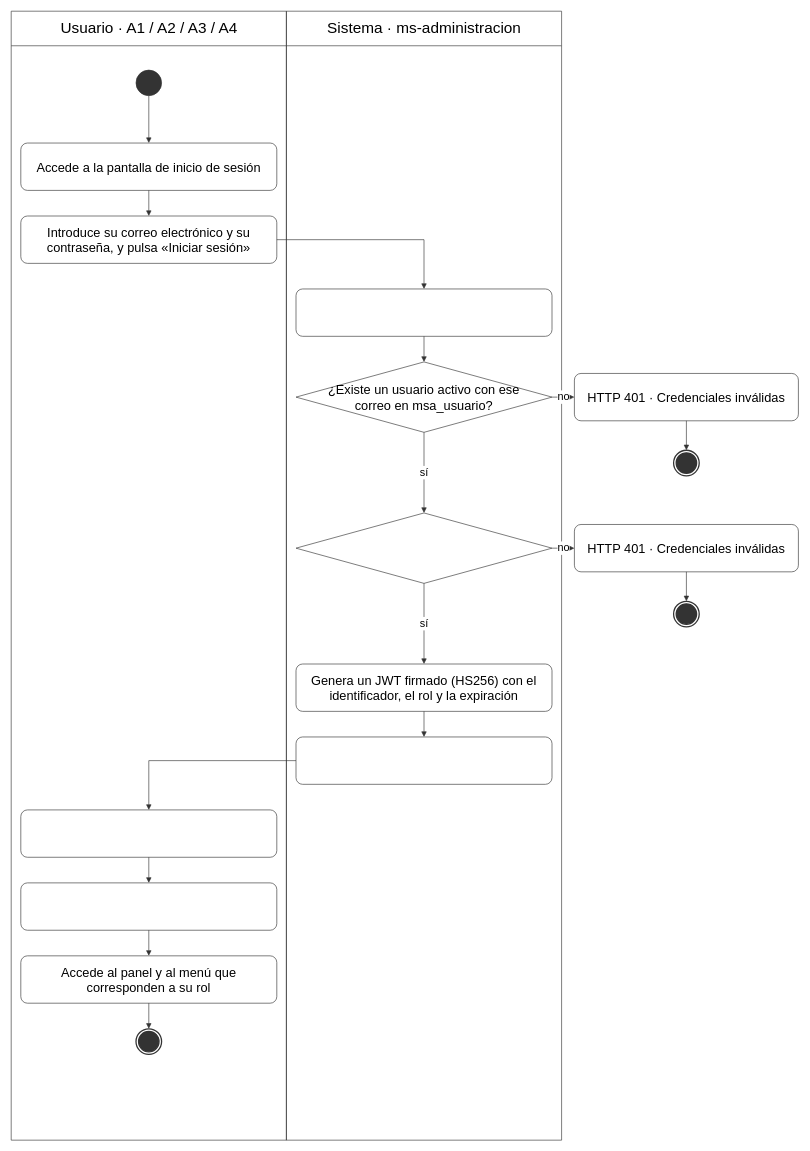
This 810x1151 diagram has some shape labels left out. Here are the shapes that lost their labels. From the top down, the centre of each, then its label:
At (x=423, y=312): "Recibe POST /api/auth/login".
At (x=423, y=547): "¿La contraseña coincide con el hash BCrypt almacenado?".
At (x=423, y=760): "Devuelve HTTP 200 con el token, su tipo, la expiración y los datos del usuario".
At (x=148, y=833): "El frontend guarda el token y el usuario en localStorage".
At (x=148, y=906): "jwtInterceptor añade la cabecera Authorization: Bearer en cada petición".
